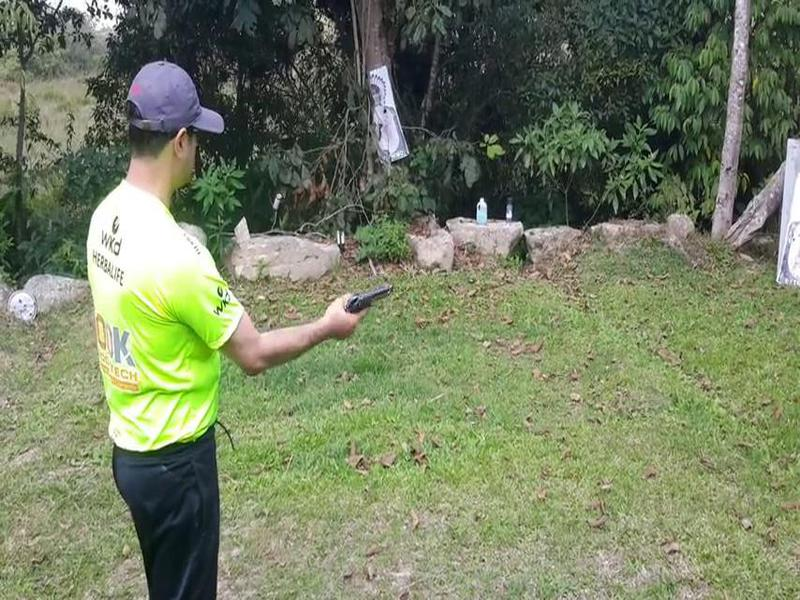Pistola: (339, 279, 407, 335)
